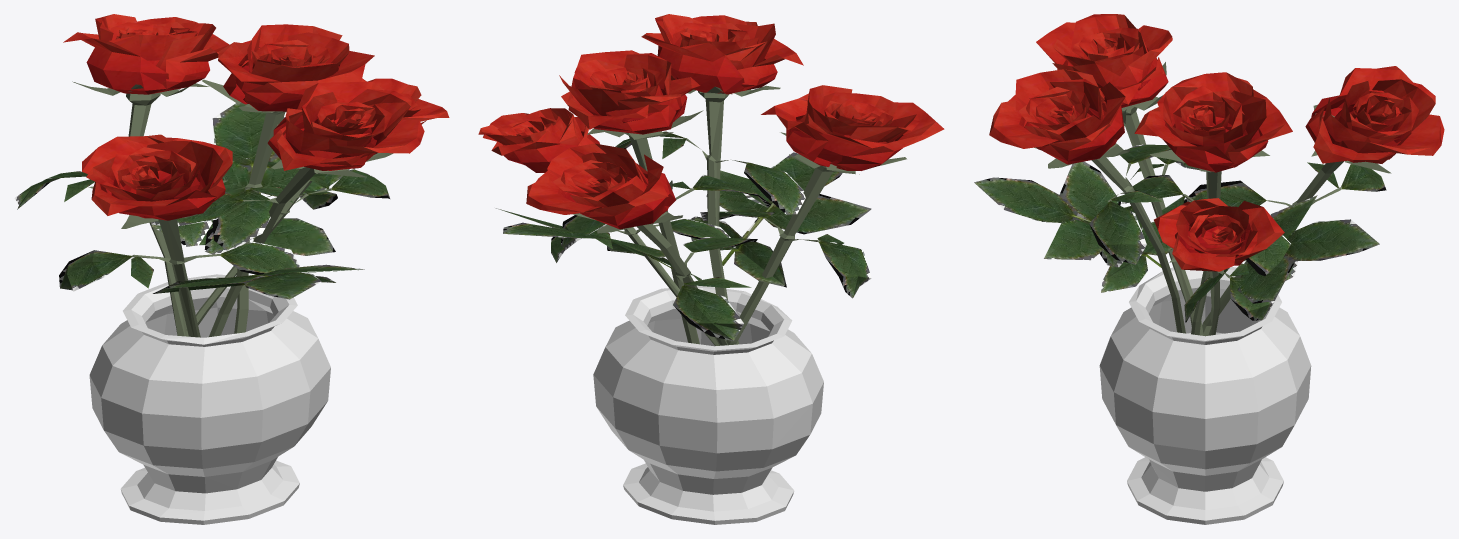
The model's file is sh-scopia-roses.glb.
3 views of the same model, side by side, from view 1: azimuth 30°, elevation 25°; view 2: azimuth 150°, elevation 25°; view 3: azimuth 270°, elevation 25° (orthographic). The views are drawn at different scales.
Visible parts, largest first — view 1: Jar, rose, leaves.003, stem, stem.003; view 2: rose, Jar, leaves.003, stem, stem.003; view 3: rose, Jar, leaves.003, stem, stem.003.
Boxes of the visible parts, left/top/right/bottom form: Jar: left=89, top=274, right=330, bottom=524; rose: left=63, top=14, right=449, bottom=220; leaves.003: left=14, top=103, right=389, bottom=299; stem: left=72, top=79, right=393, bottom=337; stem.003: left=186, top=173, right=320, bottom=336; rose: left=478, top=14, right=944, bottom=229; Jar: left=593, top=286, right=823, bottom=524; leaves.003: left=495, top=131, right=871, bottom=340; stem: left=573, top=85, right=906, bottom=345; stem.003: left=617, top=224, right=719, bottom=345; rose: left=989, top=14, right=1444, bottom=271; Jar: left=1099, top=267, right=1311, bottom=524; leaves.003: left=974, top=144, right=1386, bottom=322; stem: left=1034, top=62, right=1391, bottom=336; stem.003: left=1169, top=257, right=1230, bottom=335.
Bounding box in the file's own units: 0.9983 × 1 × 1.
4 materials, 2 textured.
